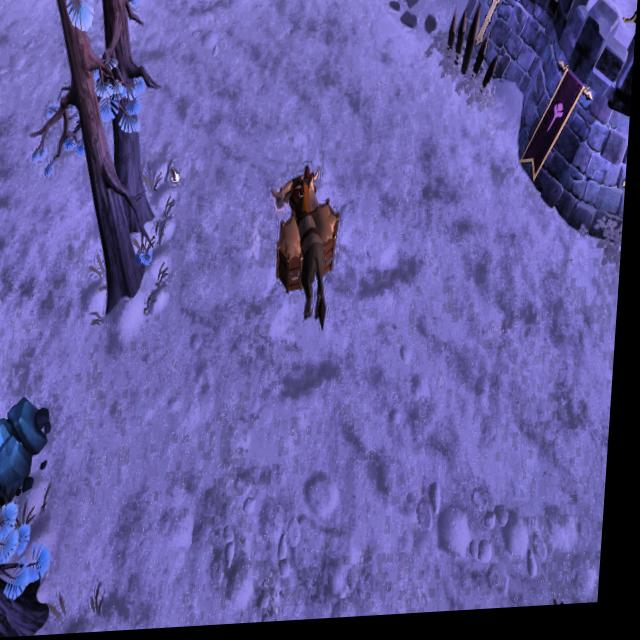rock_t4: (0, 393, 57, 505)
